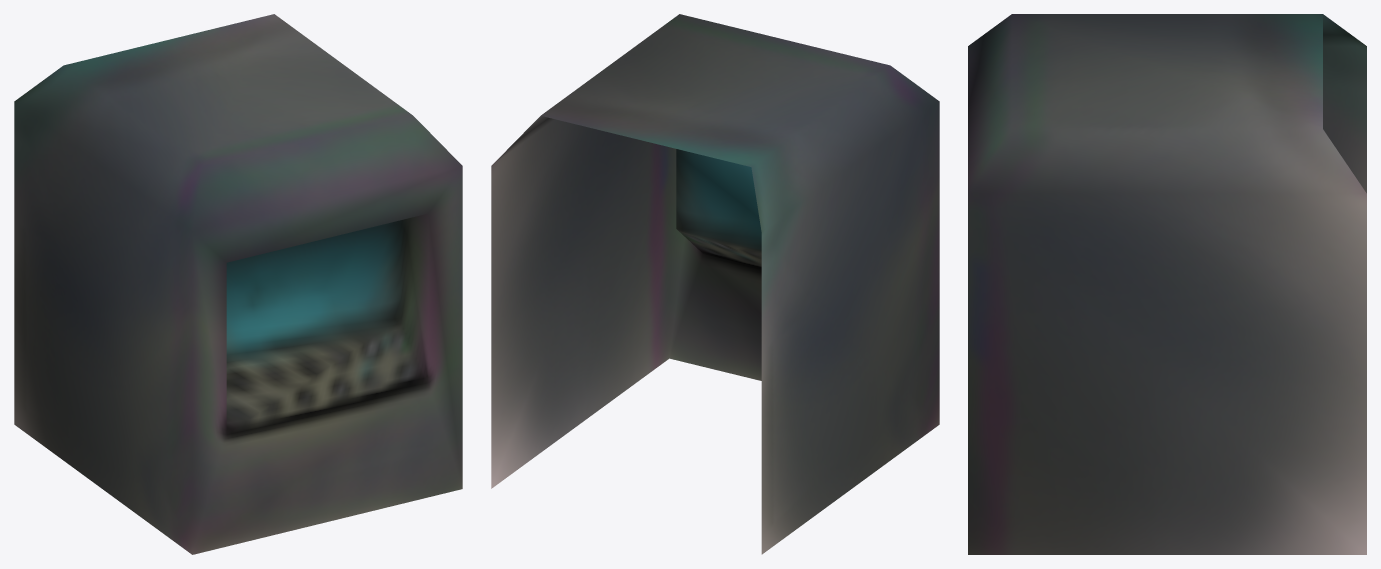
File: machine_2.fbx
The picture shows the model from 3 angles, left to right: view 1: azimuth 30°, elevation 25°; view 2: azimuth 150°, elevation 25°; view 3: azimuth 270°, elevation 25°; orthographic projection. The views are drawn at different scales.
Visible parts, largest first — view 1: machine_2; view 2: machine_2; view 3: machine_2.
Part boxes in pixels (x1=…): machine_2: x1=14, y1=14, x2=462, y2=554; machine_2: x1=491, y1=14, x2=939, y2=554; machine_2: x1=968, y1=14, x2=1366, y2=554.
Size of the model in its own units: 60.29 by 78.06 by 68.85.
